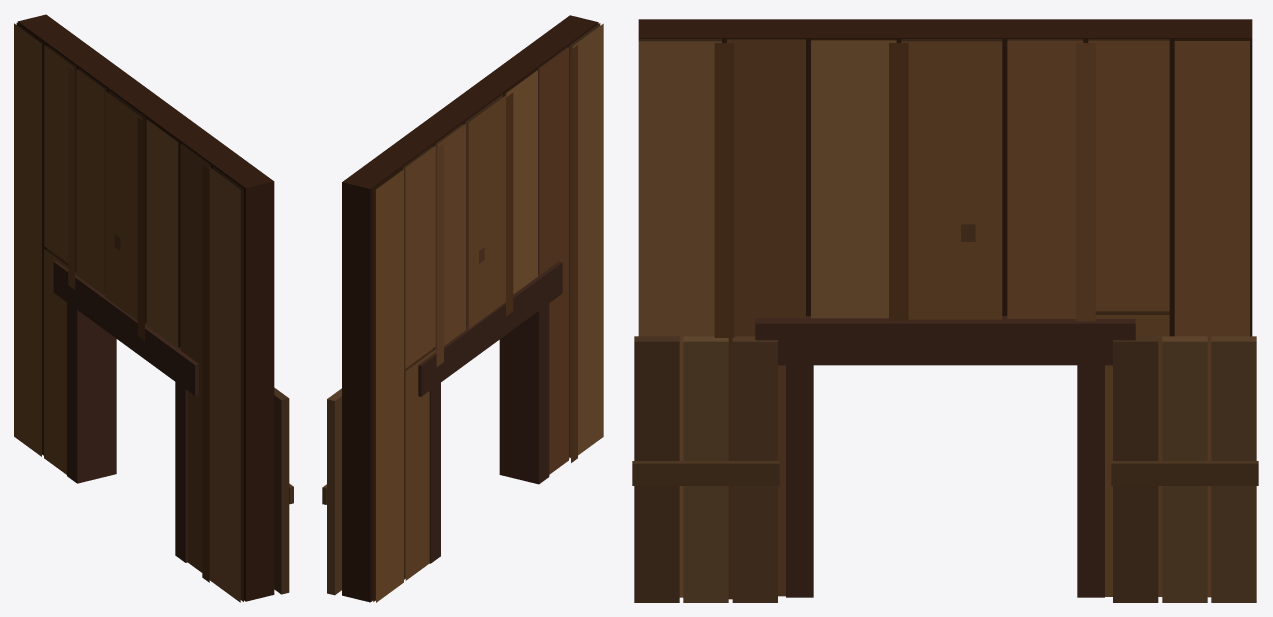
File: wall-timber-window-high.glb
3 views of the same model, side by side, from view 1: azimuth 30°, elevation 25°; view 2: azimuth 150°, elevation 25°; view 3: azimuth 270°, elevation 25° (orthographic). The views are drawn at different scales.
Parts seen in each view (by area): view 1: wall-timber-window-high; view 2: wall-timber-window-high; view 3: wall-timber-window-high.
Part boxes in pixels (bbox=[...]): wall-timber-window-high: bbox=[14, 14, 293, 602]; wall-timber-window-high: bbox=[322, 15, 603, 602]; wall-timber-window-high: bbox=[632, 19, 1258, 602].
Bounding box in the file's own units: 0.136 × 1 × 1.02.
